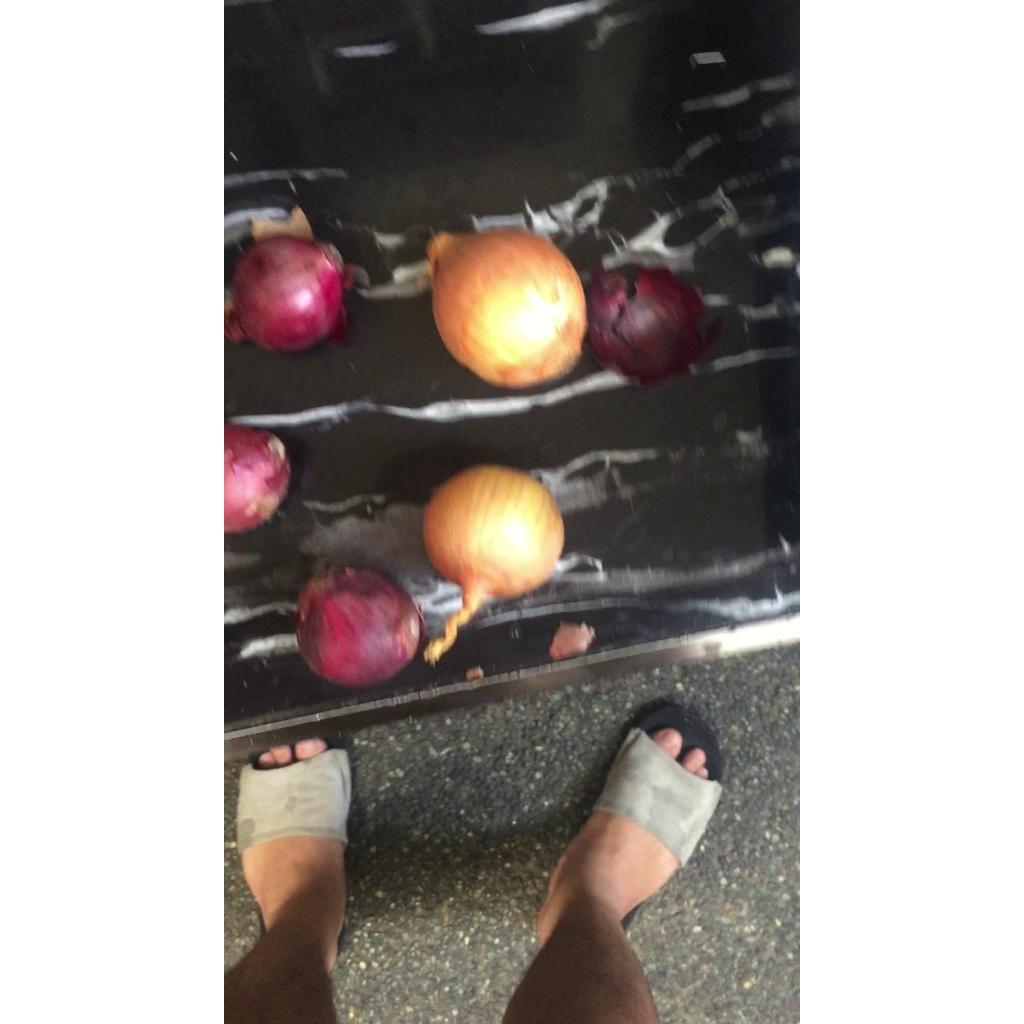Onion: (423, 465, 564, 664), (427, 227, 586, 388), (294, 567, 422, 687), (229, 235, 341, 352), (224, 425, 289, 534)
